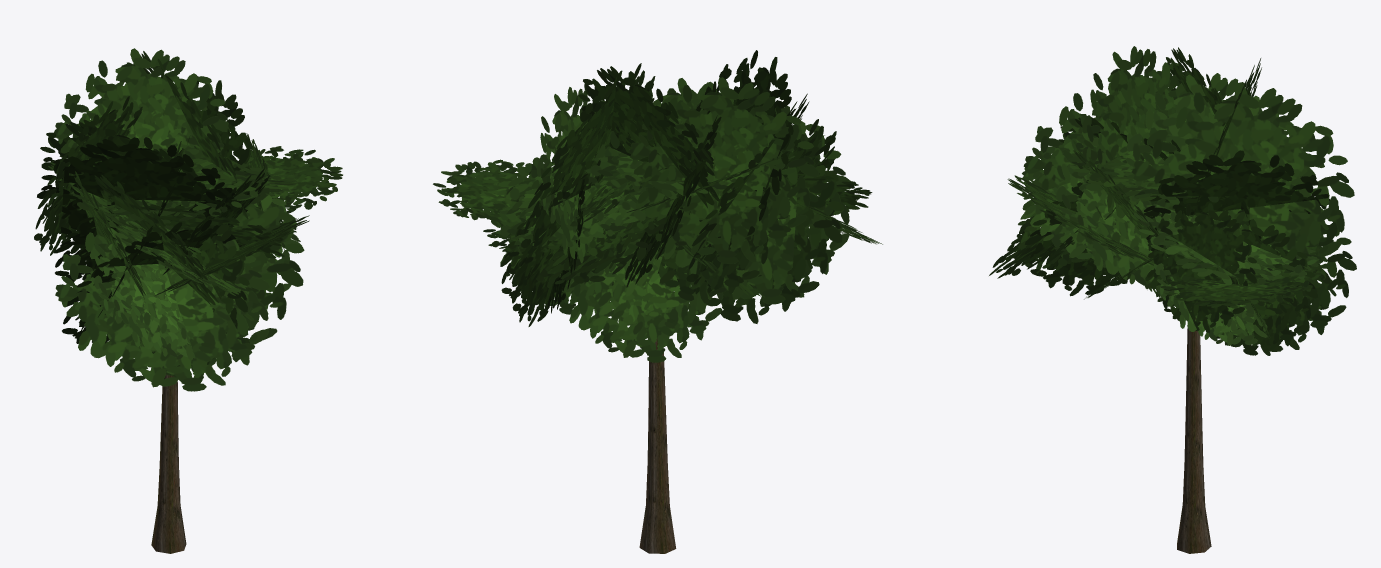
The model's file is jungle_tree_2.glb.
The picture shows the model from 3 angles, left to right: view 1: azimuth 30°, elevation 25°; view 2: azimuth 150°, elevation 25°; view 3: azimuth 270°, elevation 25°; orthographic projection. The views are drawn at different scales.
Visible parts, largest first — view 1: jungle_tree_2; view 2: jungle_tree_2; view 3: jungle_tree_2.
Boxes of the visible parts, bbox=[...] form: jungle_tree_2: bbox=[34, 48, 342, 553]; jungle_tree_2: bbox=[433, 50, 882, 553]; jungle_tree_2: bbox=[989, 46, 1356, 553].
Size of the model in its own units: 11.62 by 14.63 by 11.12.
2 materials, 2 textured.
